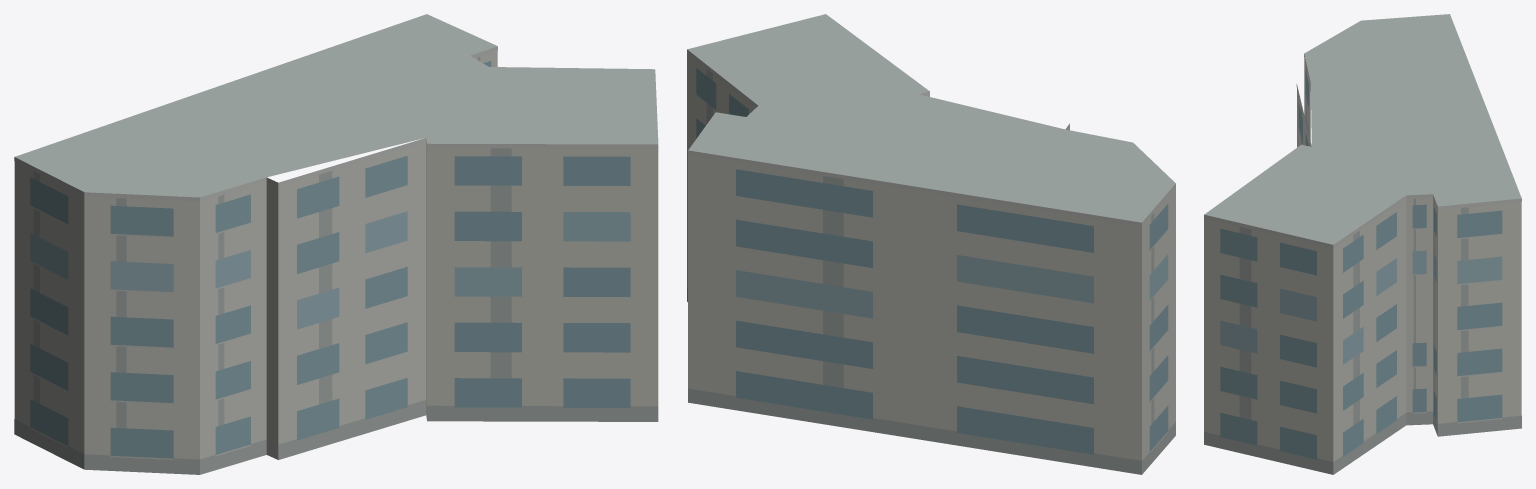
File: survey-upis-32656058.glb
3 views of the same model, side by side, from view 1: azimuth 30°, elevation 25°; view 2: azimuth 150°, elevation 25°; view 3: azimuth 270°, elevation 25° (orthographic). The views are drawn at different scales.
Parts seen in each view (by area): view 1: survey-upis-32656058.tmp; view 2: survey-upis-32656058.tmp; view 3: survey-upis-32656058.tmp.
Boxes of the visible parts, <box> form: survey-upis-32656058.tmp: <box>14,14,658,474</box>; survey-upis-32656058.tmp: <box>687,14,1175,474</box>; survey-upis-32656058.tmp: <box>1204,14,1521,474</box>.
Bounding box in the file's own units: 32.82 × 15.25 × 19.09.
